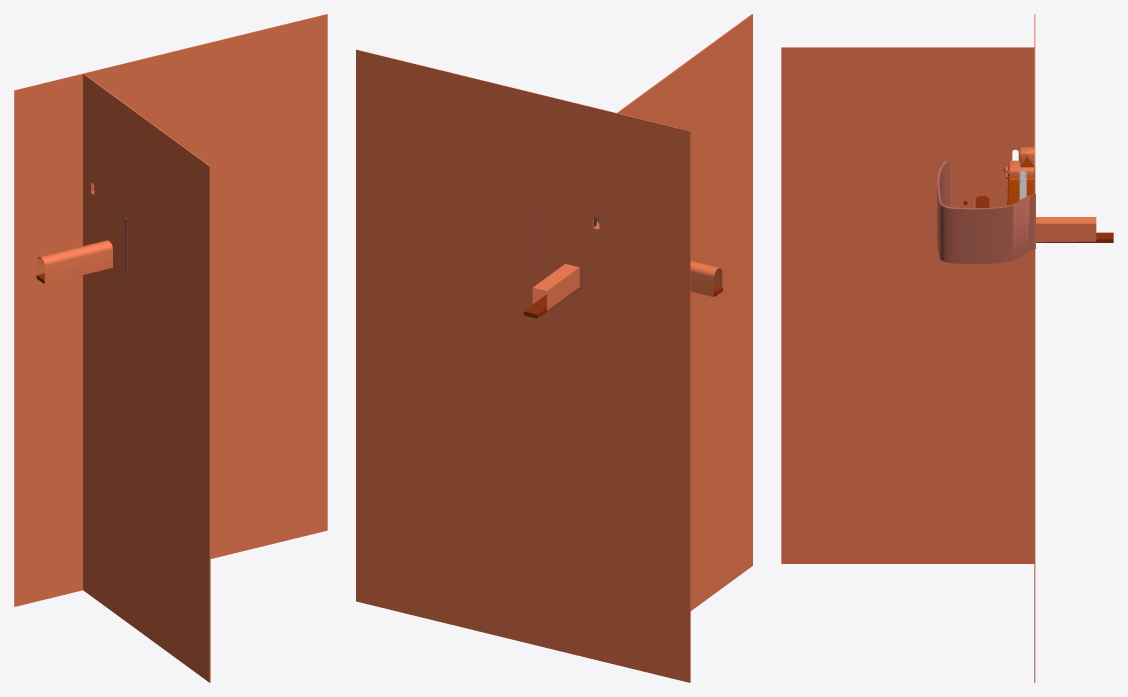
File: redroom2.fbx
The picture shows the model from 3 angles, left to right: view 1: azimuth 30°, elevation 25°; view 2: azimuth 150°, elevation 25°; view 3: azimuth 270°, elevation 25°; orthographic projection. The views are drawn at different scales.
Visible parts, largest first — view 1: wall_1, wall_2, wall_2.002; view 2: wall_1, wall_2, wall_1.002, wall_2.002; view 3: wall_2, bounds, wall_1.002, wall_1, tower.
Part boxes in pixels (box(x1,y1,x2,y2)): wall_1: box(14, 14, 327, 606); wall_2: box(83, 74, 210, 682); wall_2.002: box(37, 240, 112, 284); wall_1: box(356, 49, 690, 682); wall_2: box(617, 14, 752, 610); wall_1.002: box(532, 264, 579, 310); wall_2.002: box(690, 261, 722, 296); wall_2: box(781, 47, 1034, 563); bounds: box(937, 161, 1035, 263); wall_1.002: box(1036, 217, 1096, 242); wall_1: box(1034, 14, 1035, 682); tower: box(1007, 147, 1034, 205).
Bounding box in the file's own units: 2236 × 3522 × 2056.
